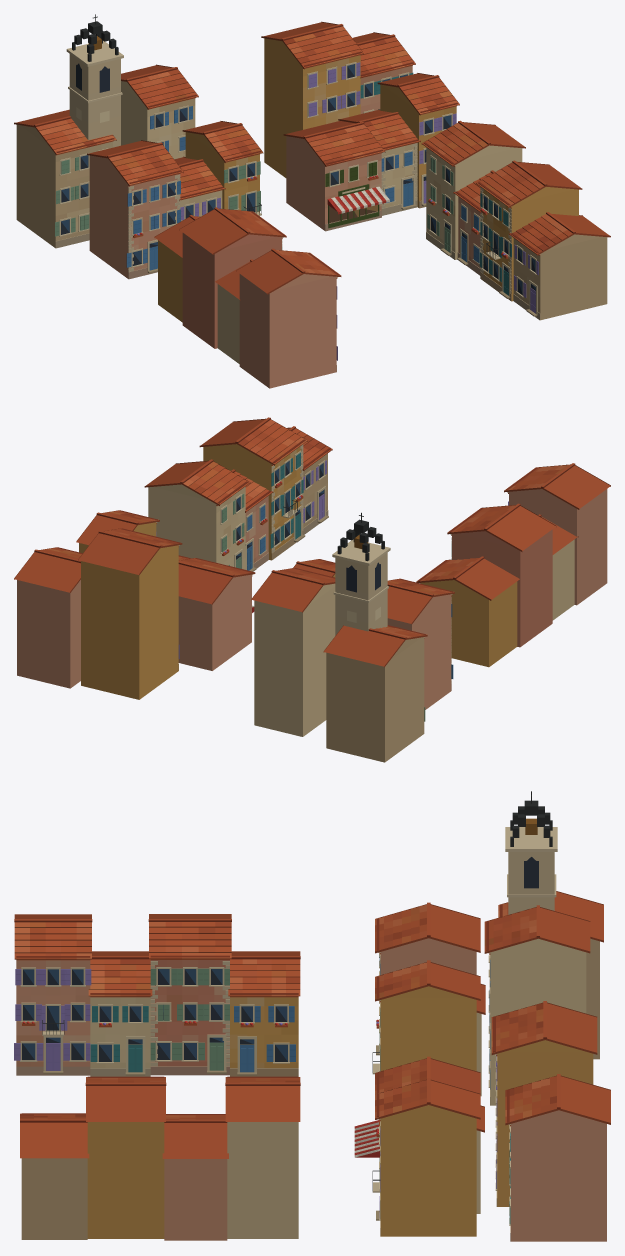
The model's file is houses.glb.
3 views of the same model, one above another, from view 1: azimuth 30°, elevation 25°; view 2: azimuth 150°, elevation 25°; view 3: azimuth 270°, elevation 25° (orthographic). The views are drawn at different scales.
Parts seen in each view (by area): view 1: houses_far, houses_back, houses_right, houses_left; view 2: houses_back, houses_left, houses_right, houses_far; view 3: houses_back, houses_left, houses_right, houses_far.
Part boxes in pixels (x1,y1,x2,y2): houses_far: (87,73,459,279); houses_back: (14,14,415,248); houses_right: (421,120,610,320); houses_left: (154,207,341,388); houses_back: (14,512,427,762); houses_left: (416,463,610,667); houses_right: (144,417,332,571); houses_far: (76,510,454,709); houses_back: (484,791,610,1241); houses_left: (14,914,300,1076); houses_right: (20,1076,300,1240); houses_far: (354,902,485,1236).
Size of the model in its own units: 37.78 by 21.3 by 43.57.
